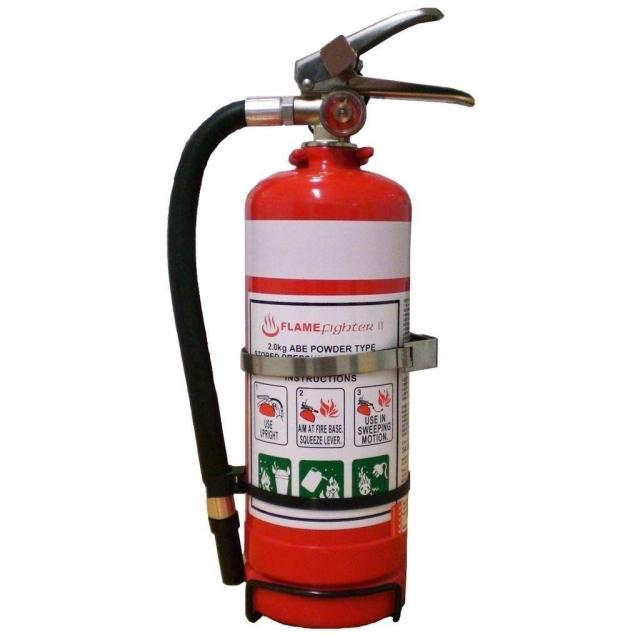fire_extinguisher: (161, 3, 480, 634)
